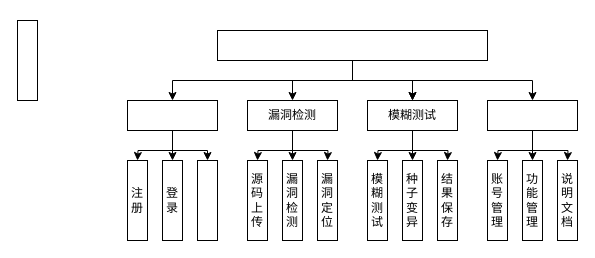
This 595x258 diagram has some shape labels left out. Here are the shapes that lost their labels. From the top down, the centre of each, then its label:
At pixel 27 60: "函数漏洞检测".
At pixel 352 45: "软件漏洞模糊测试系统".
At pixel 172 115: "身份验证".
At pixel 532 115: "后台管理".
At pixel 207 200: "注销".
